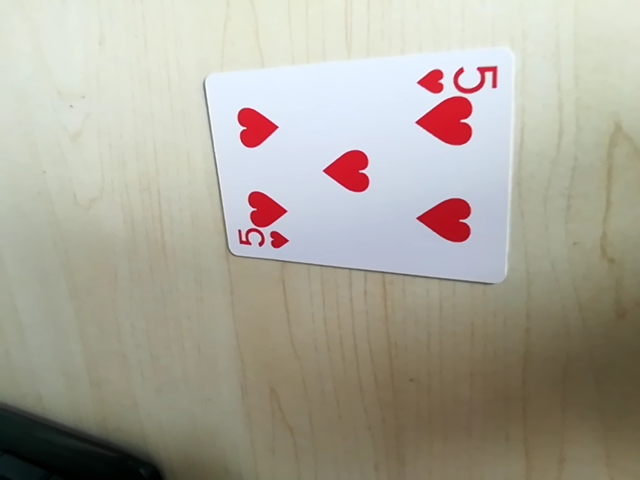hx 5: (415, 54, 500, 98), (231, 226, 291, 255)
